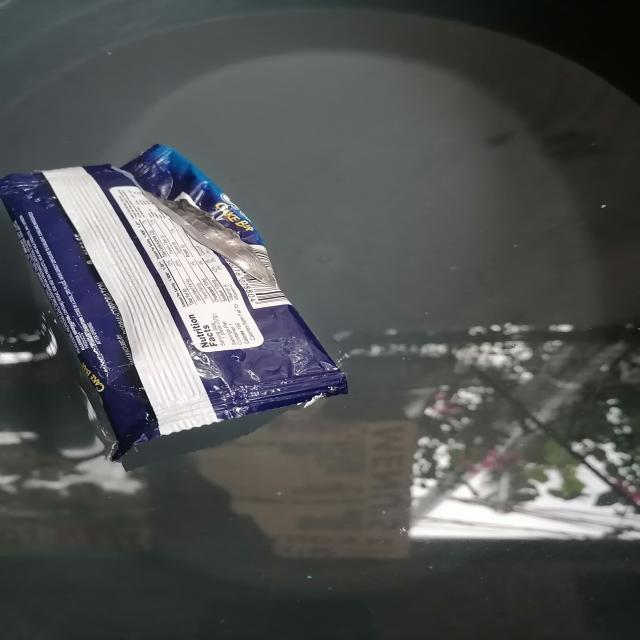Plastic Wrapper: (0, 145, 347, 461)
